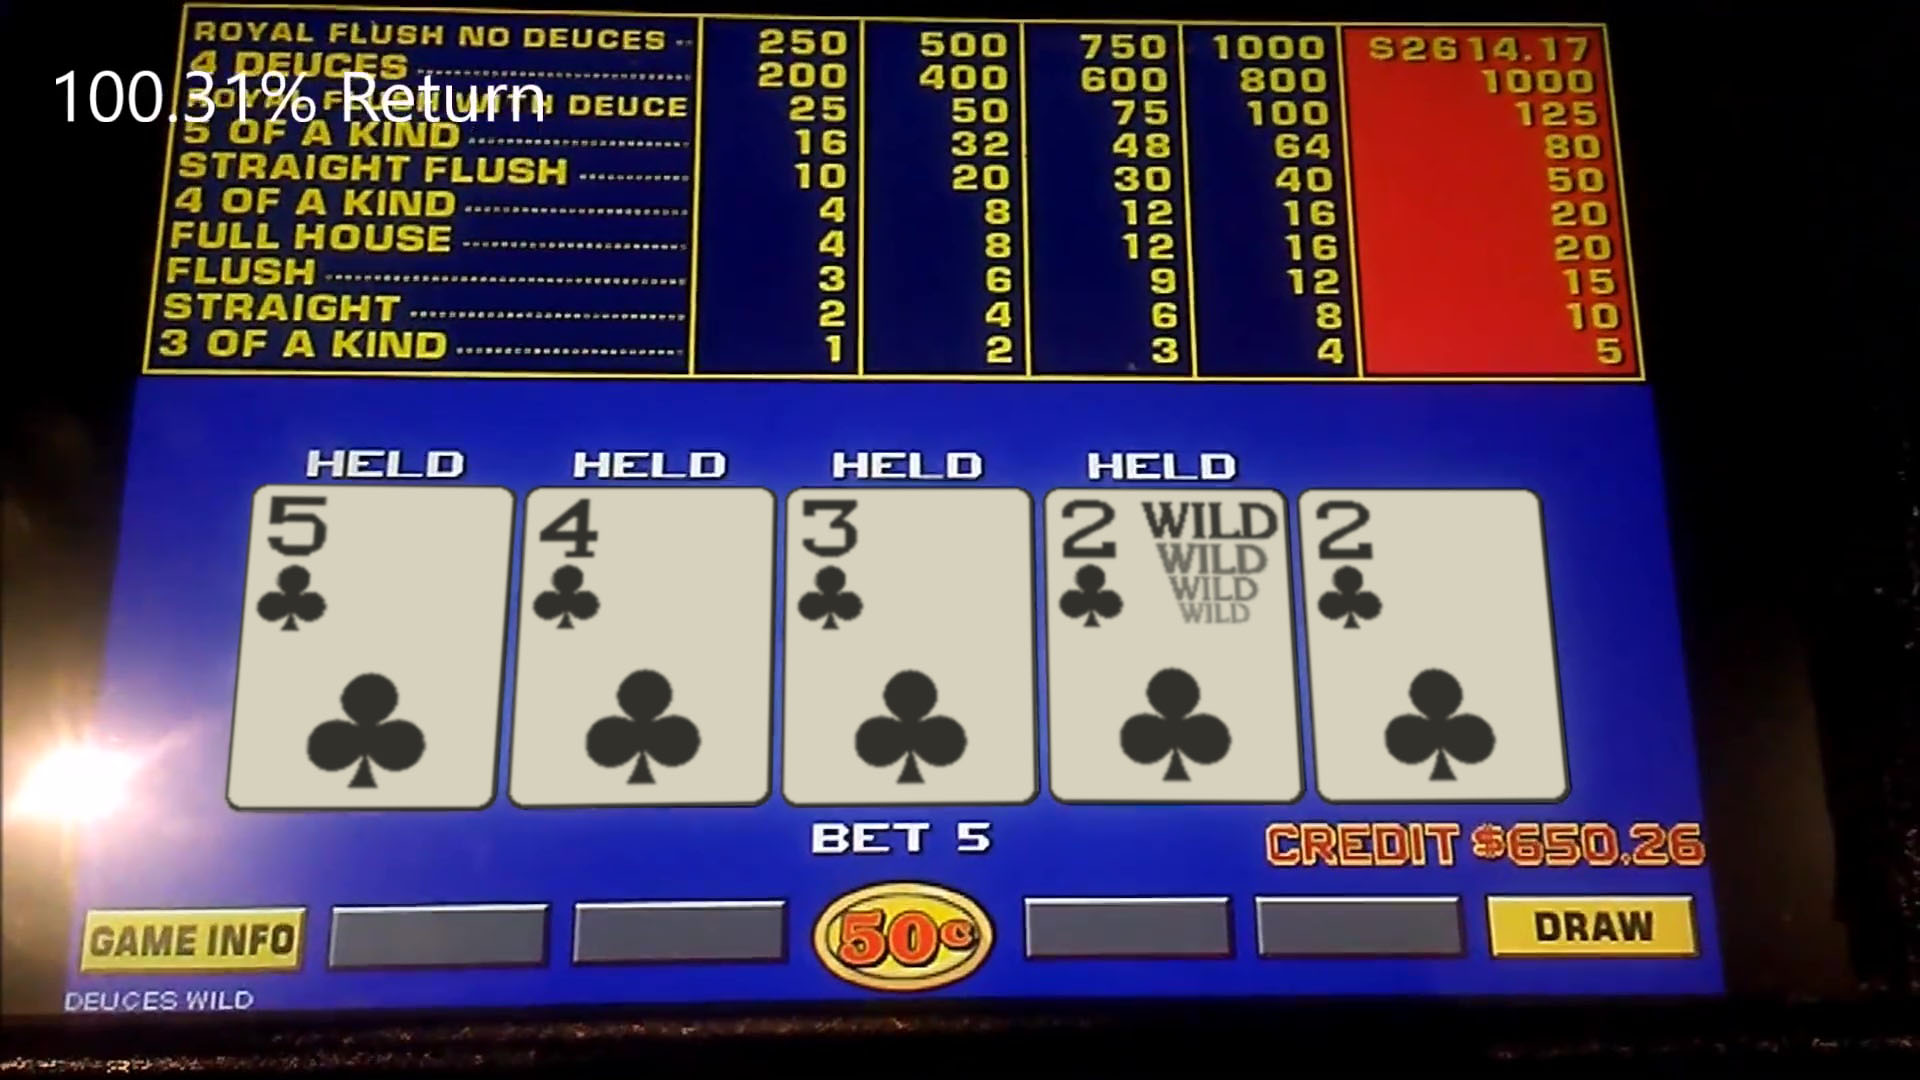C2: (1313, 492, 1539, 640)
C2W: (1048, 492, 1287, 640)
C3: (786, 489, 1030, 644)
C4: (526, 489, 770, 642)
C5: (251, 487, 501, 644)
